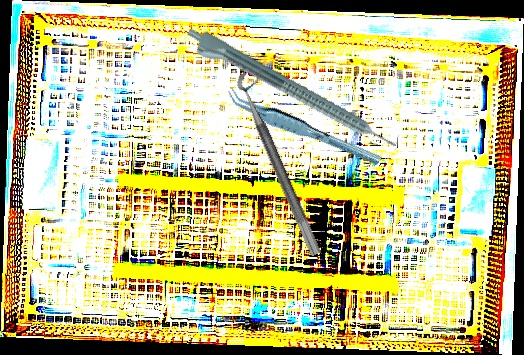Fixation Ring: (234, 66, 337, 257)
Handpiece: (180, 23, 400, 162)
Tissue Forceps: (223, 73, 383, 183)
